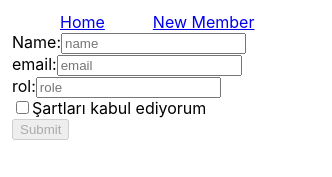
Scenario: Error tests. › Tests email input and gets error as expected .
Type "emre.sahinergmail.com" into the field with test id "email-input" at (150, 66), box x1=57 y1=55 x2=242 y2=76
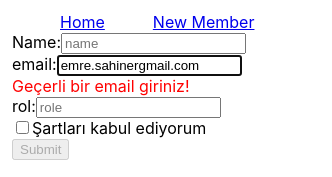
Result: the text "Geçerli bir email giriniz!" is shown at x1=12 y1=76 x2=190 y2=96
